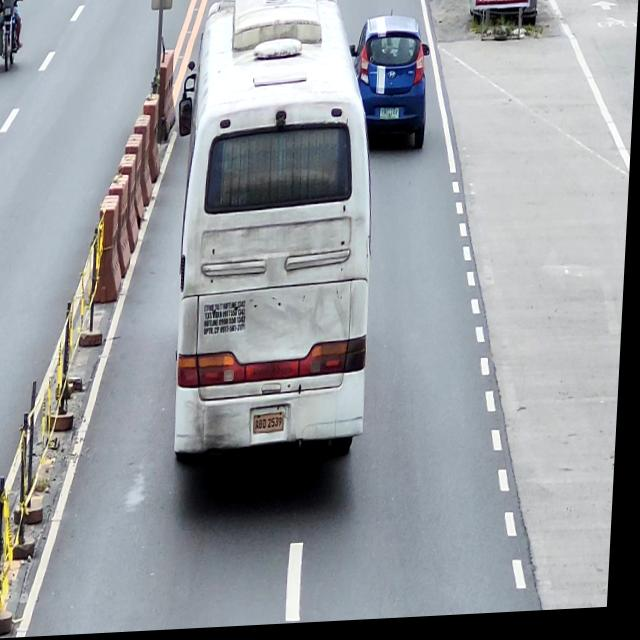Bus: (164, 0, 388, 473)
Car: (347, 19, 434, 156)
License-Plate: (258, 419, 288, 436), (380, 111, 401, 124)
